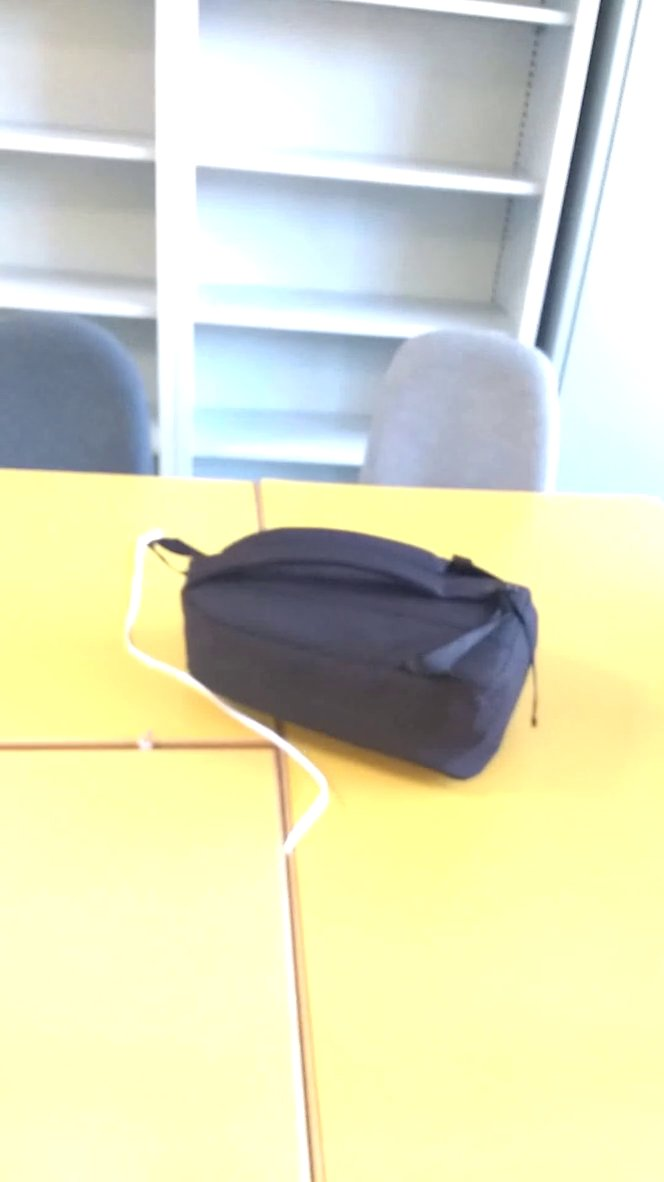bag: (139, 518, 556, 784)
chair: (348, 311, 586, 506), (1, 298, 169, 498)
